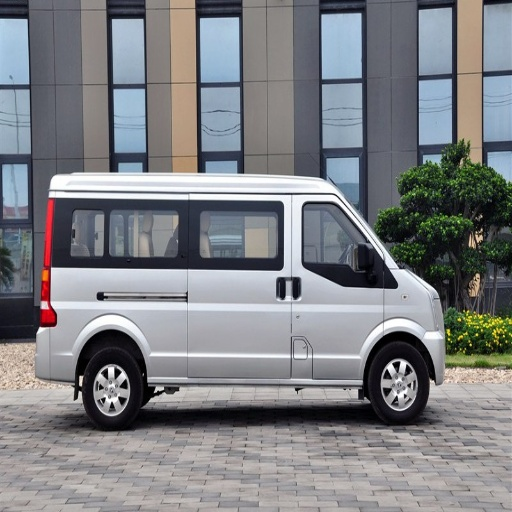back_right_door: (287, 197, 318, 251)
trunk: (41, 270, 245, 381)
